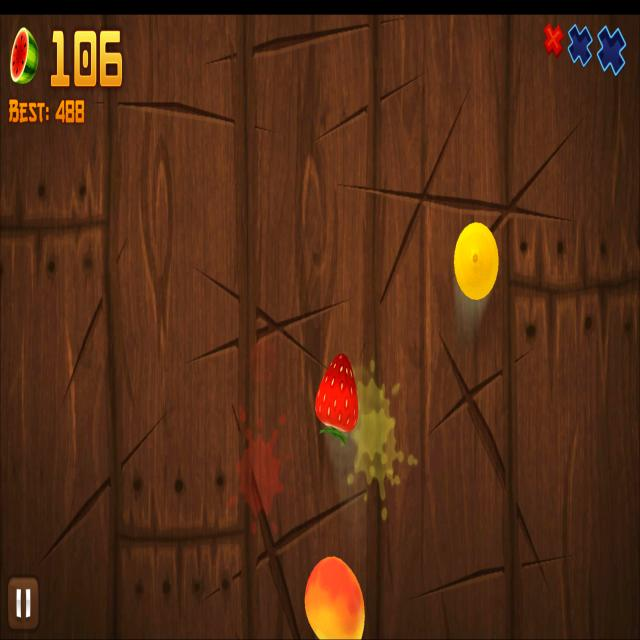fruit: (304, 553, 364, 639), (454, 219, 499, 302), (314, 353, 358, 434)
